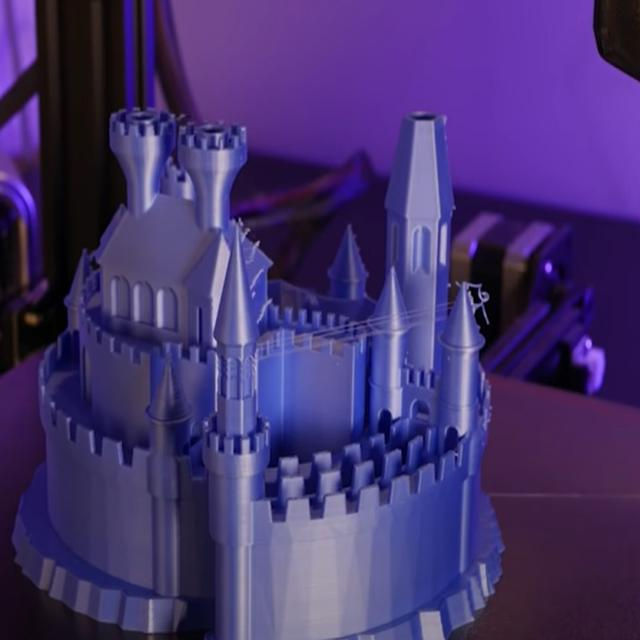stringing: (250, 304, 473, 370)
